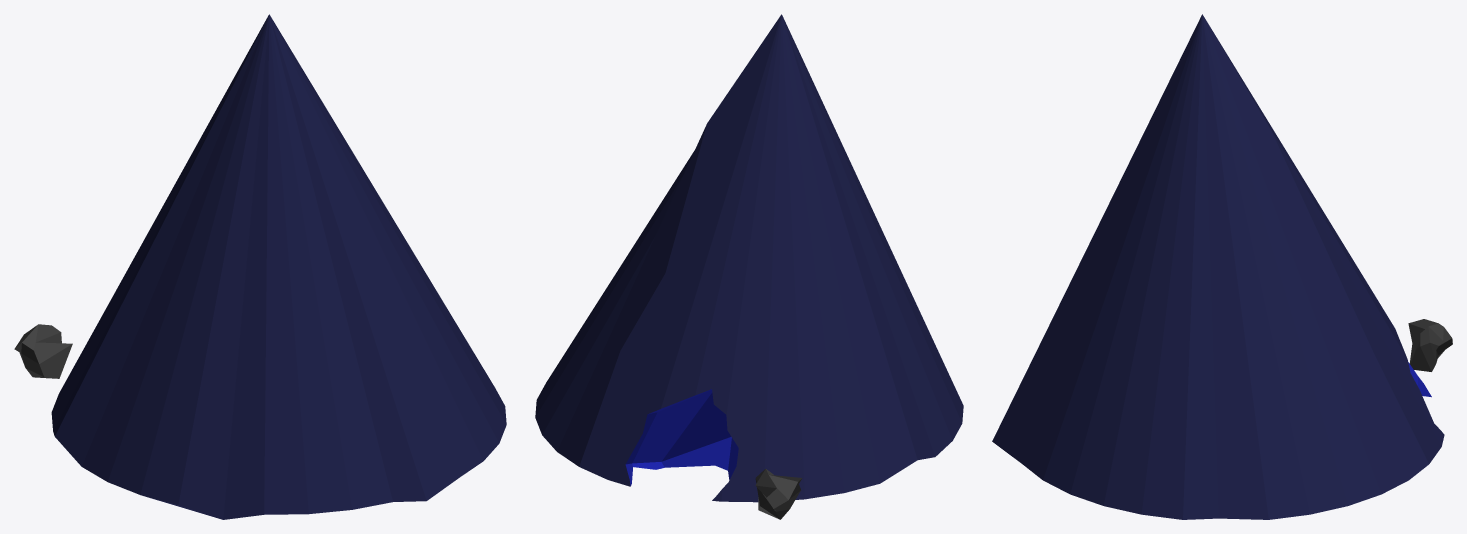
File: DeformedCone.fbx
3 renders of one model, left to right at view 1: azimuth 30°, elevation 25°; view 2: azimuth 150°, elevation 25°; view 3: azimuth 270°, elevation 25°, orthographic. The views are drawn at different scales.
Parts seen in each view (by area): view 1: Cone, Cube; view 2: Cone, Cube; view 3: Cone, Cube.
Part boxes in pixels (x1=…): Cone: x1=51, y1=14, x2=506, y2=519; Cube: x1=14, y1=324, x2=72, y2=378; Cone: x1=535, y1=14, x2=963, y2=502; Cube: x1=755, y1=469, x2=802, y2=519; Cone: x1=992, y1=14, x2=1444, y2=519; Cube: x1=1408, y1=319, x2=1452, y2=371.
Bounding box in the file's own units: 200 × 207 × 209.
